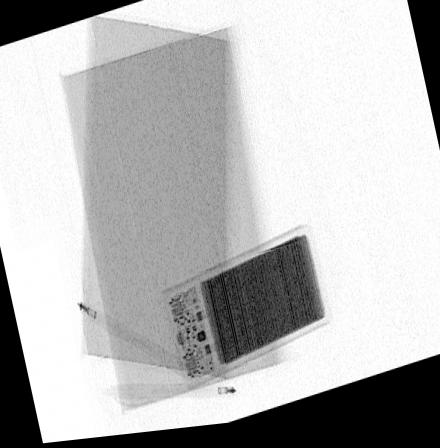Powerbank: (159, 231, 332, 396)
